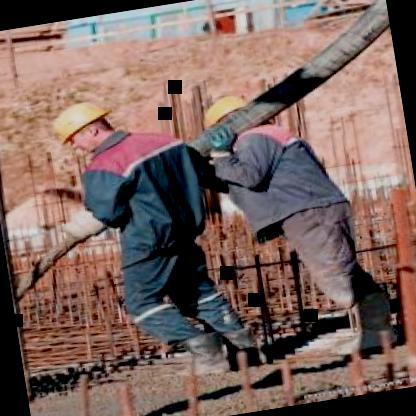helmet: (44, 91, 132, 166), (202, 91, 260, 136)
